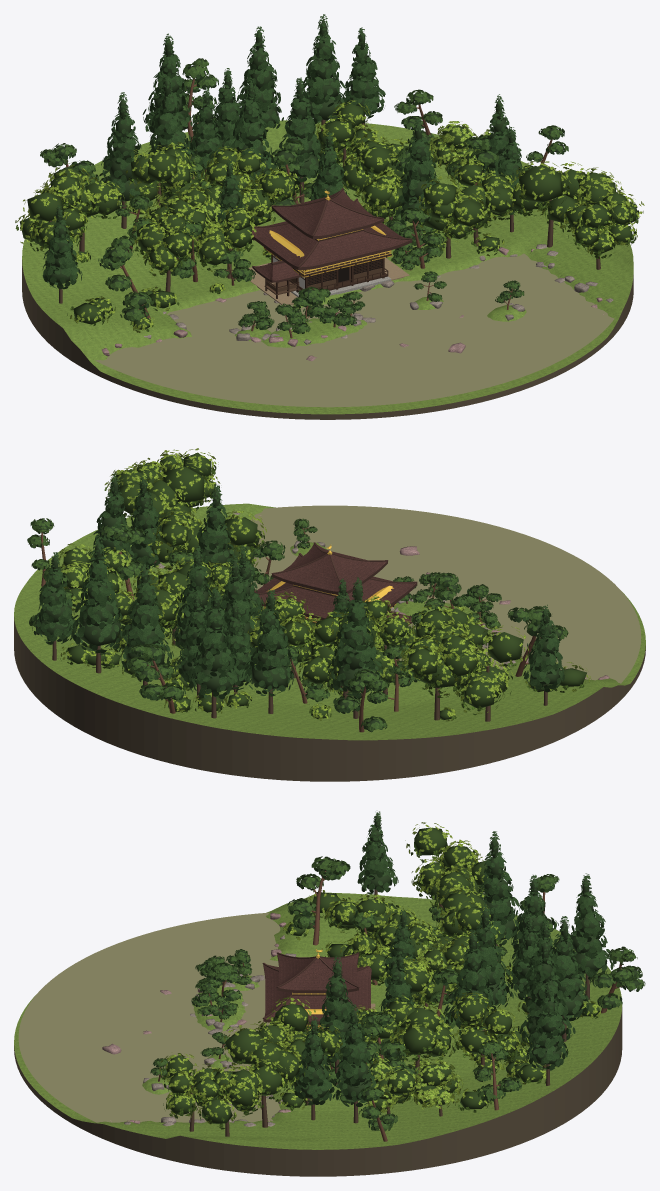
File: kinkakuji.glb
3 renders of one model, top to bottom at view 1: azimuth 30°, elevation 25°; view 2: azimuth 150°, elevation 25°; view 3: azimuth 270°, elevation 25°, orthographic. The views are drawn at different scales.
Visible parts, largest first — view 1: Kinkakuji; view 2: Kinkakuji; view 3: Kinkakuji.
Part boxes in pixels (left/top/right/bottom): Kinkakuji: left=15, top=14, right=644, bottom=419; Kinkakuji: left=14, top=448, right=645, bottom=781; Kinkakuji: left=14, top=811, right=645, bottom=1176.
Bounding box in the file's own units: 80.11 × 23.82 × 83.12.
Materials: 24 (11 with a texture image).
